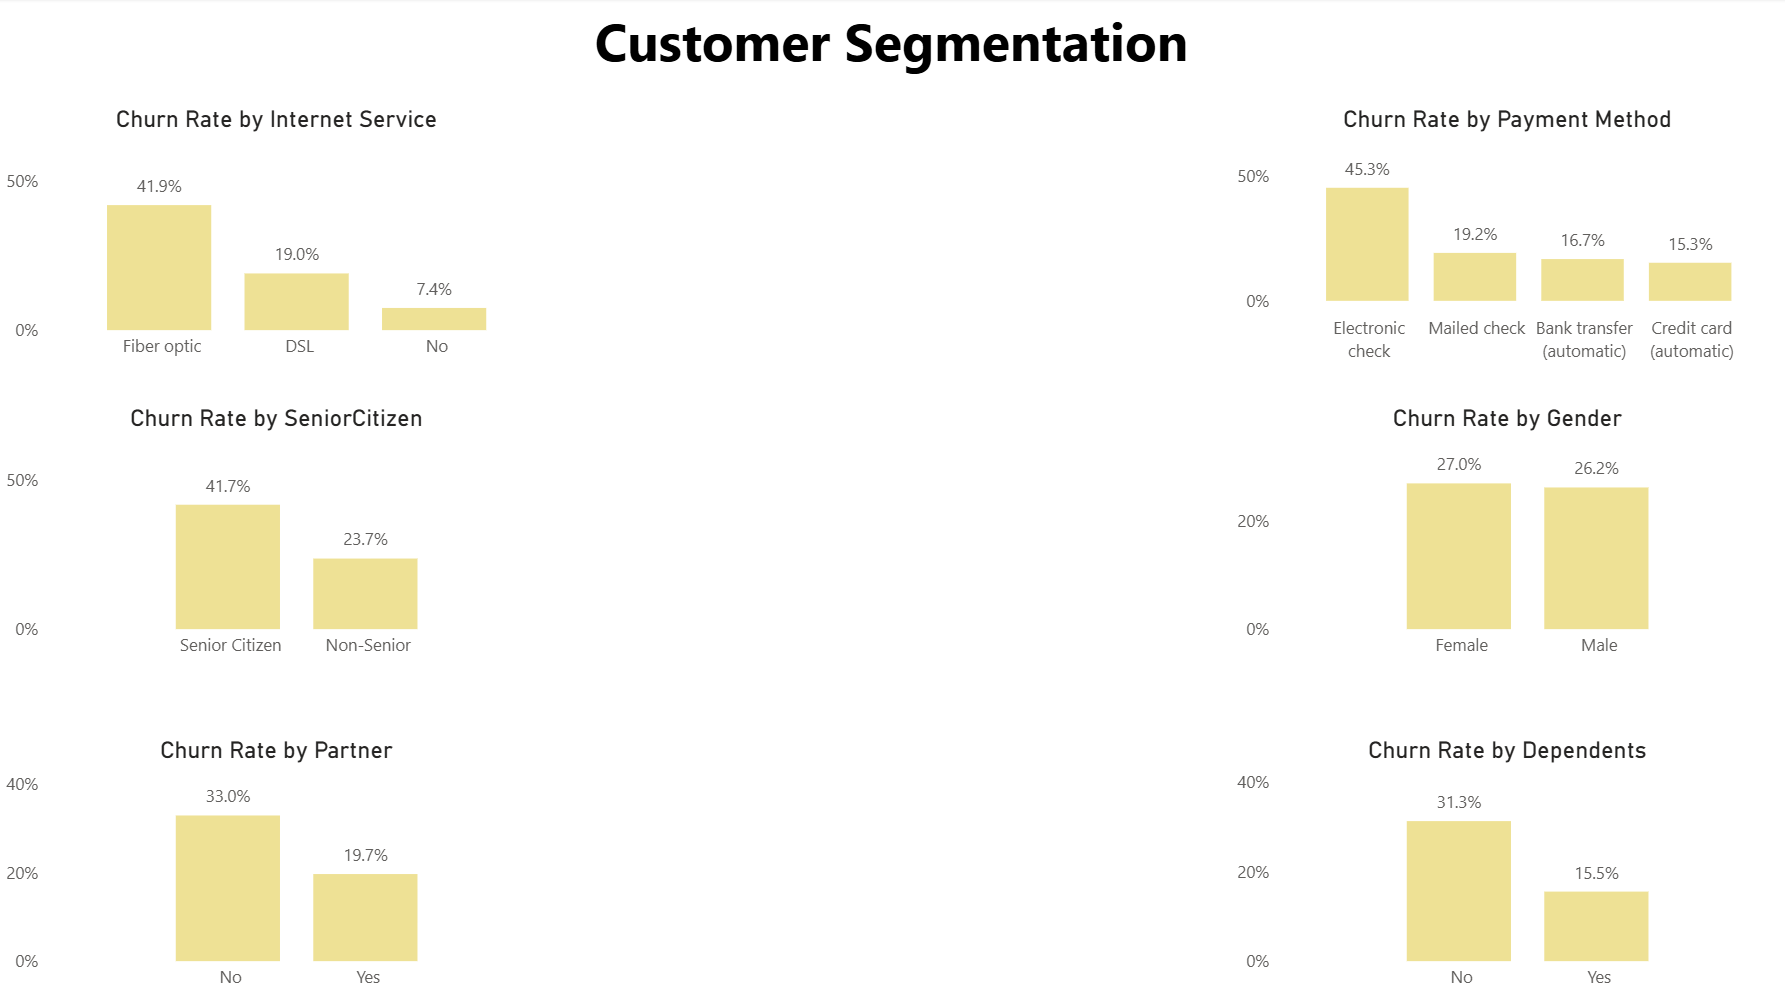

This screenshot's page, from the dashboard's own definition file:
{"tool":"powerbi","page":{"name":"Customer Segmentation","canvas":[1280,720],"ordinal":1},"visuals":[{"type":"textbox","box":[394.2,0,490.9,76.7],"z":0},{"type":"columnChart","title":"Churn Rate by Internet Service","fields":{"Y":["churn_db customer_churn.Churn Rate"],"Category":["churn_db customer_churn.InternetService"]},"box":[0,76.7,397.8,191.4],"z":1000},{"type":"columnChart","title":"Churn Rate by Payment Method","fields":{"Y":["churn_db customer_churn.Churn Rate"],"Category":["churn_db customer_churn.PaymentMethod"]},"box":[882.2,76.7,397.8,191.4],"z":1001},{"type":"columnChart","title":"Churn Rate by SeniorCitizen","fields":{"Y":["churn_db customer_churn.Churn Rate"],"Category":["churn_db customer_churn.Senior Group"]},"box":[0,291,397.8,191.4],"z":1002},{"type":"columnChart","title":"Churn Rate by Gender","fields":{"Y":["churn_db customer_churn.Churn Rate"],"Category":["churn_db customer_churn.gender"]},"box":[882.2,291,397.8,191.4],"z":1003},{"type":"columnChart","title":"Churn Rate by Partner","fields":{"Y":["churn_db customer_churn.Churn Rate"],"Category":["churn_db customer_churn.Partner"]},"box":[0,528.9,397.8,191.4],"z":1004},{"type":"columnChart","title":"Churn Rate by Dependents","fields":{"Category":["churn_db customer_churn.Dependents"],"Y":["churn_db customer_churn.Churn Rate"]},"box":[882.2,528.9,397.8,191.4],"z":1005}]}

Visuals, with their boxes in screenshot pixels (x1, y1, x2, y2), scaled from the page's 1280x720 canvas onto the 1785x1003 screenshot:
textbox: [550, 0, 1234, 107]
"Churn Rate by Internet Service" columnChart: [0, 107, 555, 373]
"Churn Rate by Payment Method" columnChart: [1230, 107, 1784, 373]
"Churn Rate by SeniorCitizen" columnChart: [0, 405, 555, 672]
"Churn Rate by Gender" columnChart: [1230, 405, 1784, 672]
"Churn Rate by Partner" columnChart: [0, 737, 555, 1002]
"Churn Rate by Dependents" columnChart: [1230, 737, 1784, 1002]
